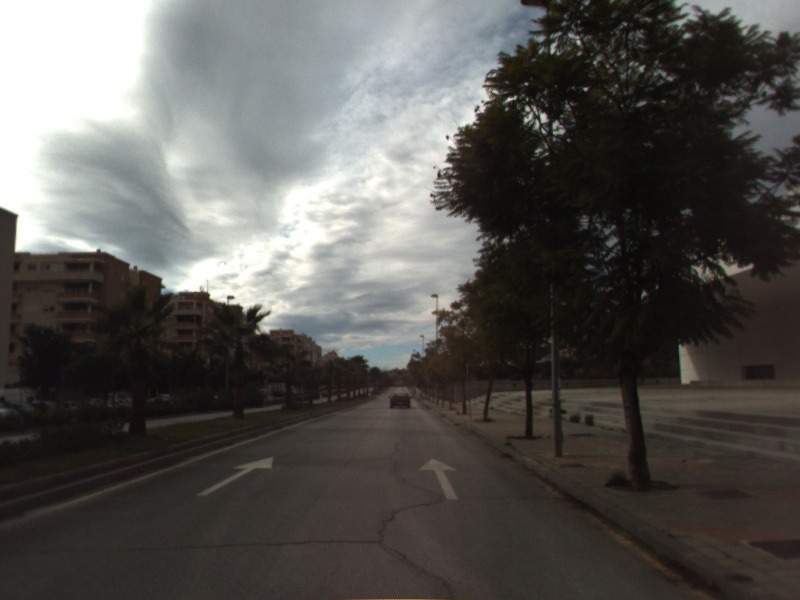STRAIGHT: (194, 455, 275, 498), (417, 456, 461, 501)
